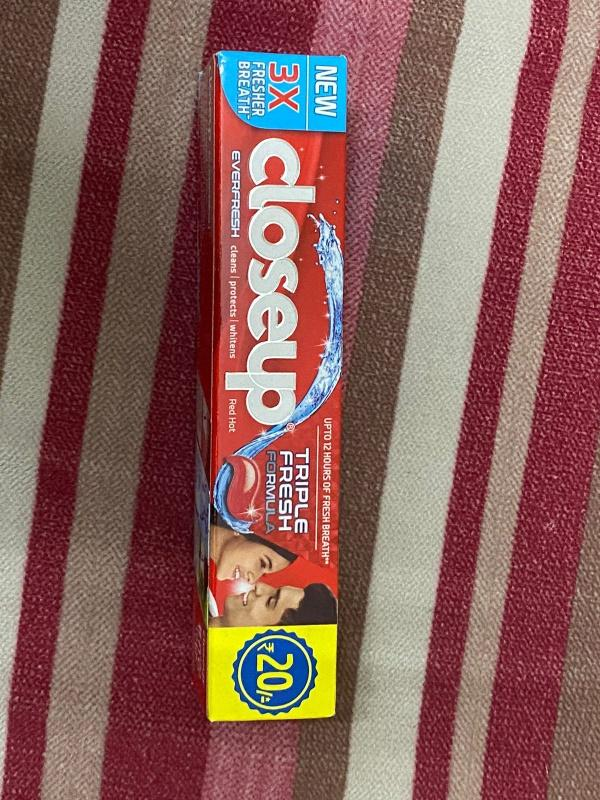CloseUp: (183, 37, 359, 738)
